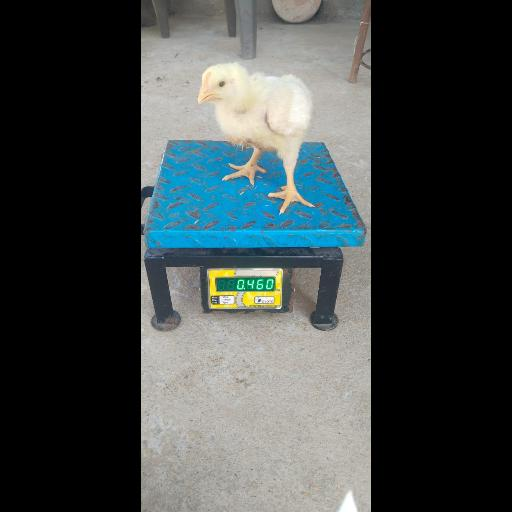chick: (198, 62, 316, 216)
